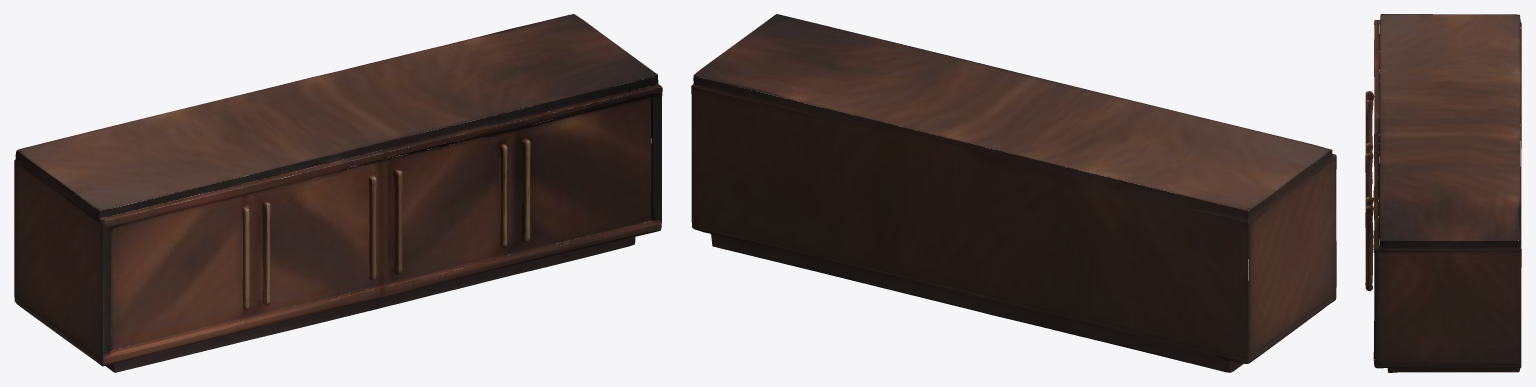
The model's file is c-vasque.glb.
The picture shows the model from 3 angles, left to right: view 1: azimuth 30°, elevation 25°; view 2: azimuth 150°, elevation 25°; view 3: azimuth 270°, elevation 25°; orthographic projection. The views are drawn at different scales.
Parts seen in each view (by area): view 1: geometry_0; view 2: geometry_0; view 3: geometry_0.
Part boxes in pixels (x1,y1,x2,y2): geometry_0: [14, 14, 662, 372]; geometry_0: [691, 14, 1336, 372]; geometry_0: [1365, 14, 1521, 372].
Size of the model in its own units: 1 by 0.2895 by 0.2909.
Materials: 1 (1 with a texture image).
